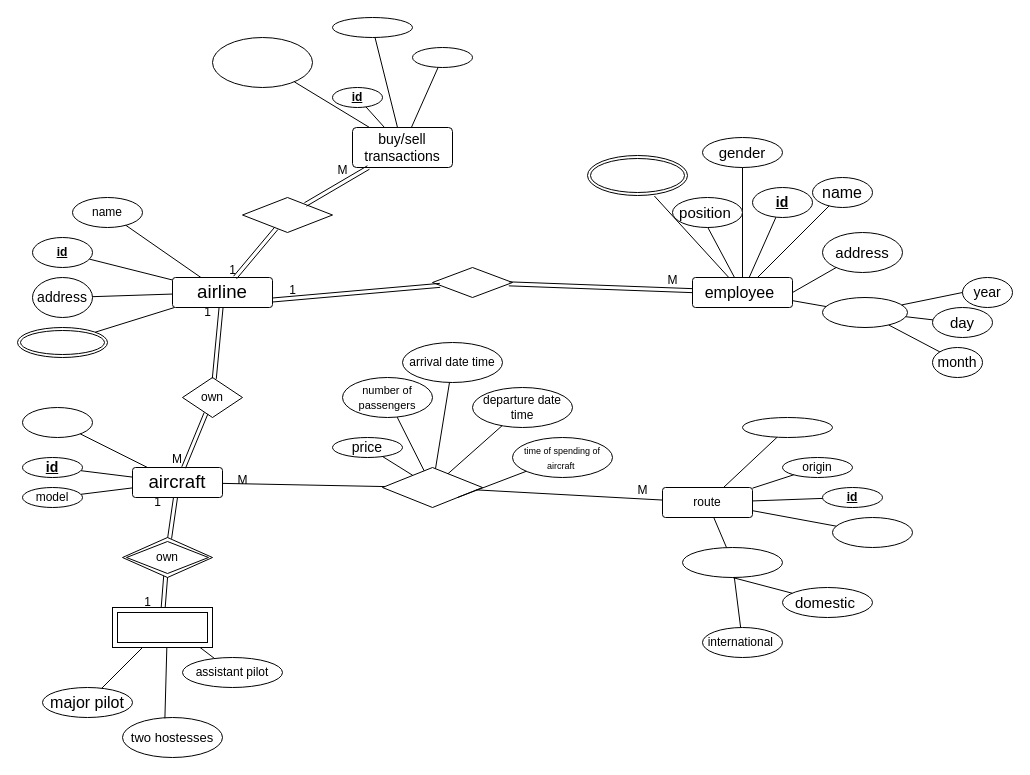
Image size: 1030x775. Some labels were removed from this diagram. The centre of each missing label's shape, as x and y in pixels:
"assign" goes at (x=432, y=487).
"birthday" goes at (x=865, y=312).
"capacity" goes at (x=57, y=422).
"classification" goes at (x=732, y=562).
"crew" goes at (x=162, y=627).
"data" goes at (x=442, y=57).
"destination" goes at (x=872, y=532).
"distance" goes at (x=787, y=427).
"keep info" goes at (x=287, y=214).
"money paid/received" goes at (x=262, y=62).
"number" goes at (x=372, y=27).
"qualifications" goes at (x=637, y=175).
"telphone_num" goes at (x=62, y=342).
"work" goes at (x=472, y=282).
